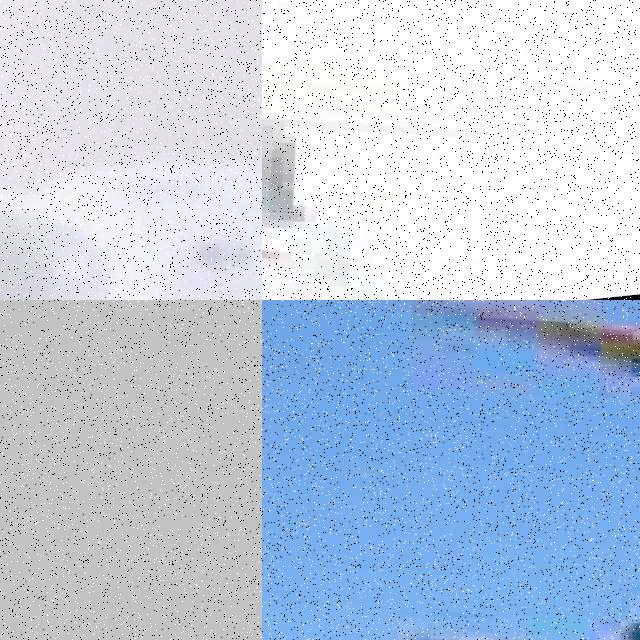0: (262, 300, 640, 640)
drone: (262, 0, 640, 300), (0, 0, 262, 300)
